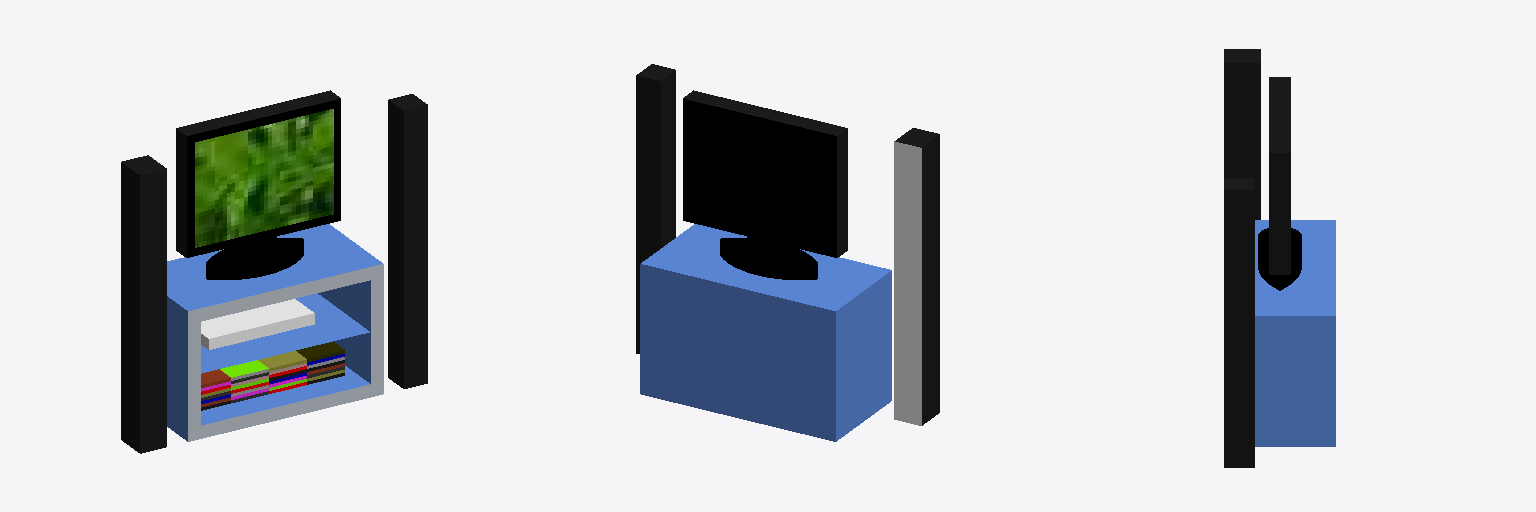
The picture shows the model from 3 angles: view 1: azimuth 30°, elevation 25°; view 2: azimuth 150°, elevation 25°; view 3: azimuth 270°, elevation 25°; orthographic projection.
Parts seen in each view (by area): view 1: Mesh2 Component_1_1 Model, Mesh1 Component_1_1 Model, Mesh3 Component_1_1 Model; view 2: Mesh2 Component_1_1 Model, Mesh1 Component_1_1 Model, Mesh3 Component_1_1 Model; view 3: Mesh2 Component_1_1 Model, Mesh3 Component_1_1 Model, Mesh1 Component_1_1 Model.
Part boxes in pixels (x1,y1,x2,y2): Mesh2 Component_1_1 Model: (167,90,383,441); Mesh1 Component_1_1 Model: (121,155,166,453); Mesh3 Component_1_1 Model: (388,94,427,388); Mesh2 Component_1_1 Model: (640,90,891,441); Mesh1 Component_1_1 Model: (894,128,939,425); Mesh3 Component_1_1 Model: (636,64,675,353); Mesh2 Component_1_1 Model: (1255,77,1335,446); Mesh3 Component_1_1 Model: (1224,178,1254,467); Mesh1 Component_1_1 Model: (1224,49,1260,219).
Size of the model in its own units: 0.1686 by 0.1588 by 0.0571.
16 materials, 1 textured.